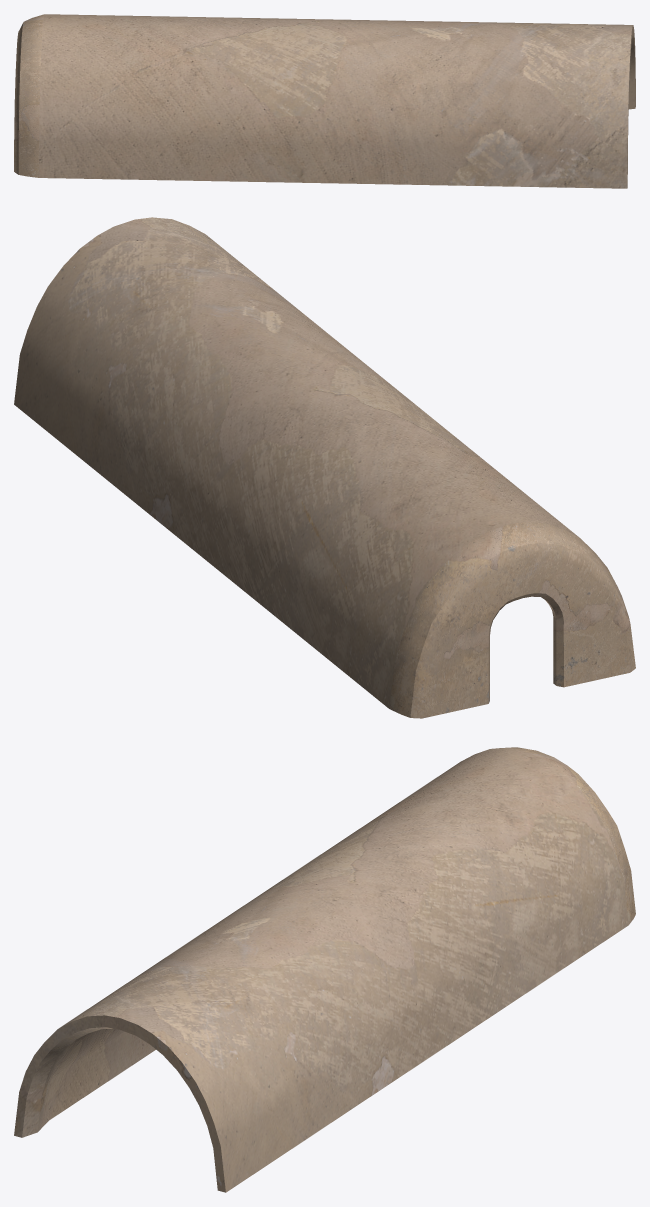
Rendered from tunel.obj.
3 renders of one model, top to bottom at view 1: azimuth 30°, elevation 25°; view 2: azimuth 150°, elevation 25°; view 3: azimuth 270°, elevation 25°, orthographic. The views are drawn at different scales.
Visible parts, largest first — view 1: tunel; view 2: tunel; view 3: tunel.
Boxes of the visible parts, bbox=[...] form: tunel: bbox=[14, 14, 635, 188]; tunel: bbox=[14, 217, 635, 718]; tunel: bbox=[14, 747, 635, 1192].
Size of the model in its own units: 19.78 by 4.06 by 15.65.
1 material, 1 textured.
